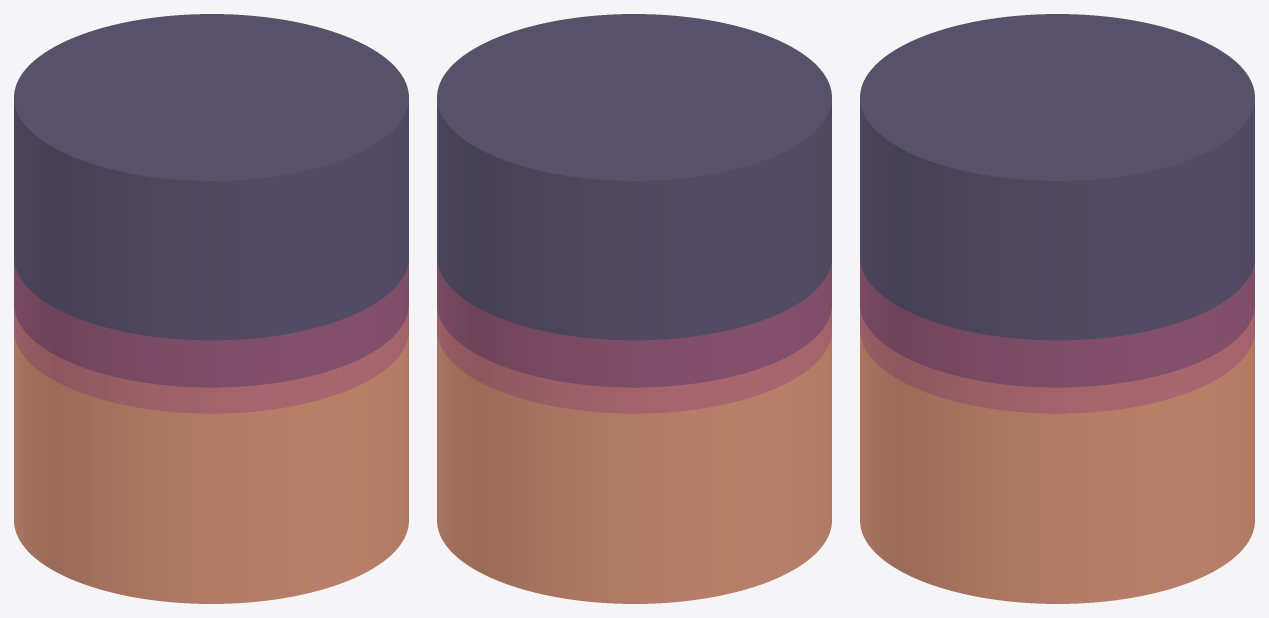
File: cabin.glb
The picture shows the model from 3 angles, left to right: view 1: azimuth 30°, elevation 25°; view 2: azimuth 150°, elevation 25°; view 3: azimuth 270°, elevation 25°; orthographic projection.
Parts seen in each view (by area): view 1: Lookout_Sky; view 2: Lookout_Sky; view 3: Lookout_Sky.
Part boxes in pixels (left/top/right/bottom): Lookout_Sky: left=14, top=14, right=408, bottom=603; Lookout_Sky: left=437, top=14, right=831, bottom=603; Lookout_Sky: left=860, top=14, right=1254, bottom=603.
Bounding box in the file's own units: 2200 × 2600 × 2200.
